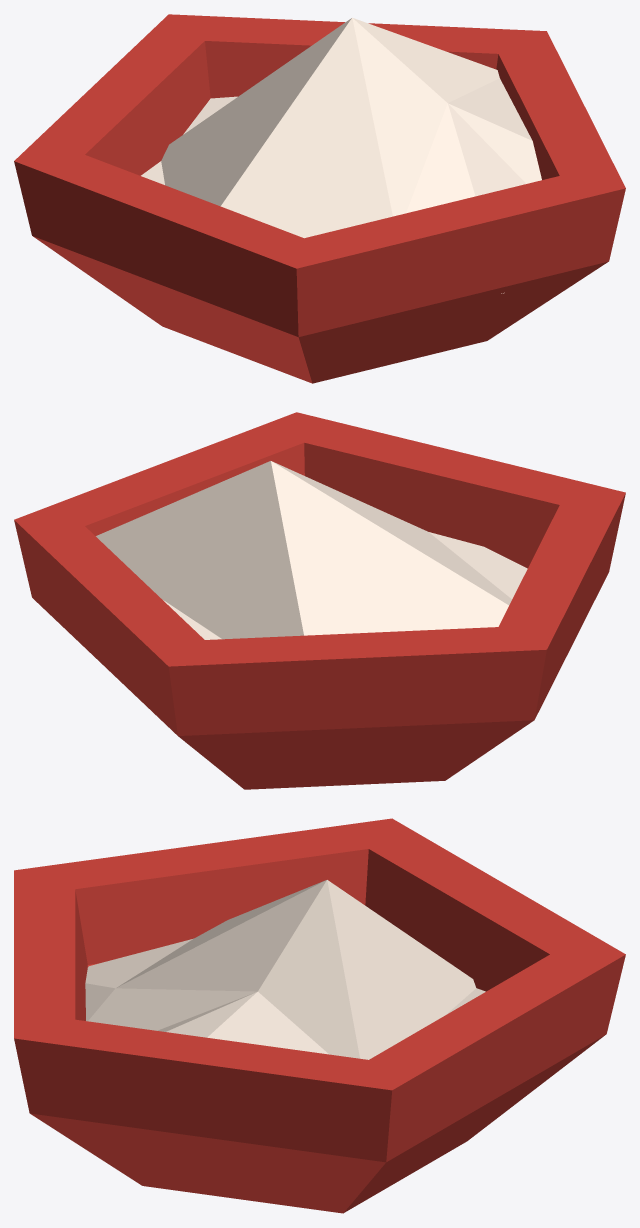
Rendered from Sugar.fbx.
3 renders of one model, top to bottom at view 1: azimuth 30°, elevation 25°; view 2: azimuth 150°, elevation 25°; view 3: azimuth 270°, elevation 25°, orthographic. The views are drawn at different scales.
Parts seen in each view (by area): view 1: Sugar; view 2: Sugar; view 3: Sugar.
Part boxes in pixels (x1,y1,x2,y2): Sugar: (14,14,625,383); Sugar: (14,412,625,789); Sugar: (14,818,625,1213).
Bounding box in the file's own units: 68.95 × 33.39 × 65.58.
